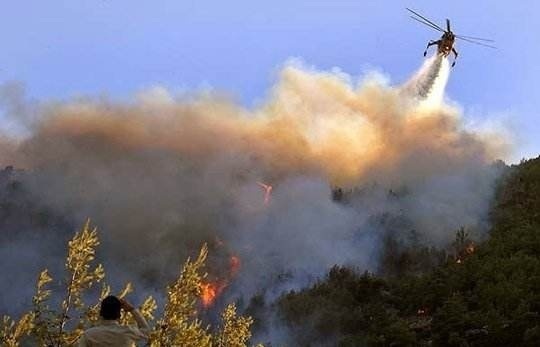fire: (248, 178, 275, 209), (452, 238, 482, 259), (197, 279, 219, 304), (227, 251, 241, 271)
